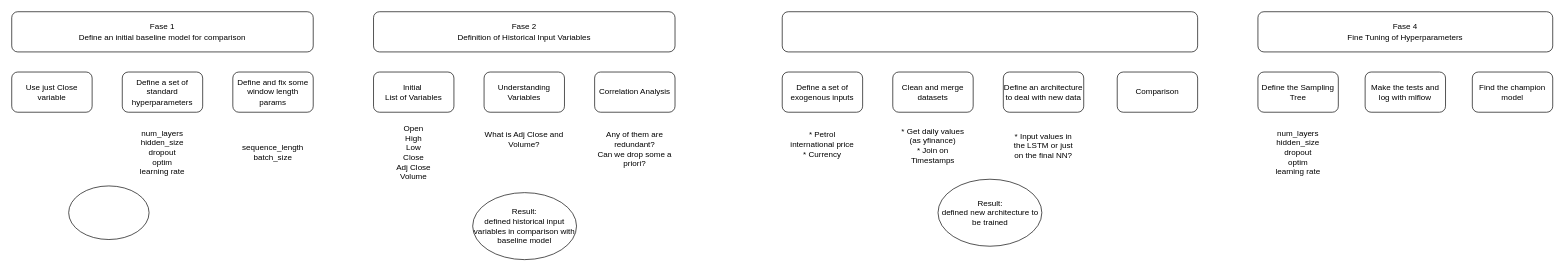
This 1564x271 diagram has some shape labels left out. The shapes that lost their labels are listed below. From the top down, each one's centre as x and y in pixels, then its label:
At point (990, 31): "Fase 3 [Optional] Enrichment - Using additional Data".
At point (108, 212): "Result: baseline model understanding of epochs".
